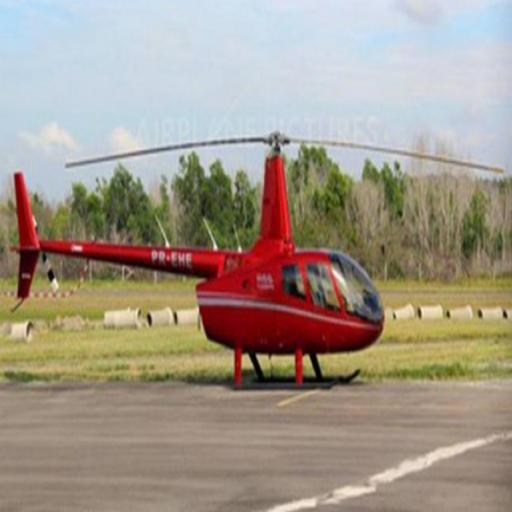helicopter: (9, 46, 433, 412)
